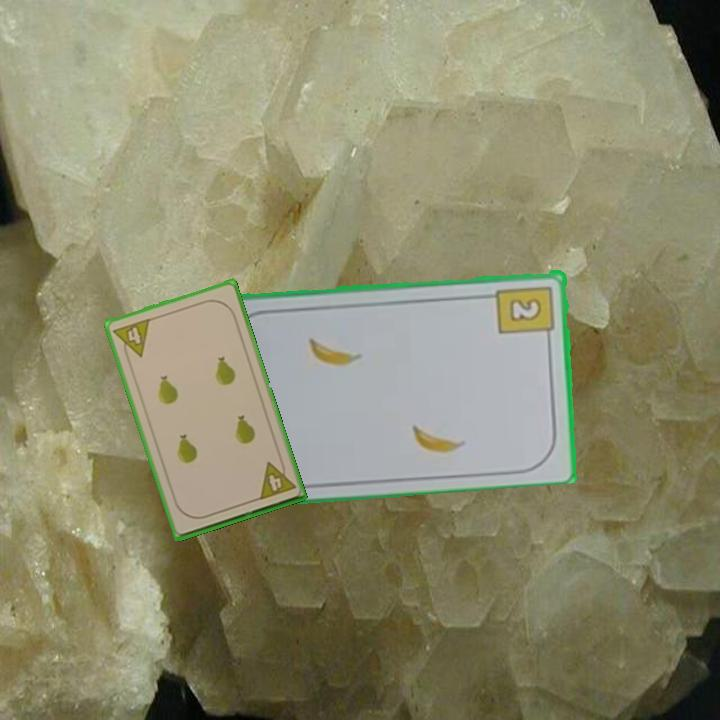2b: (494, 282, 558, 343)
4p: (110, 315, 153, 364), (255, 455, 298, 503)
